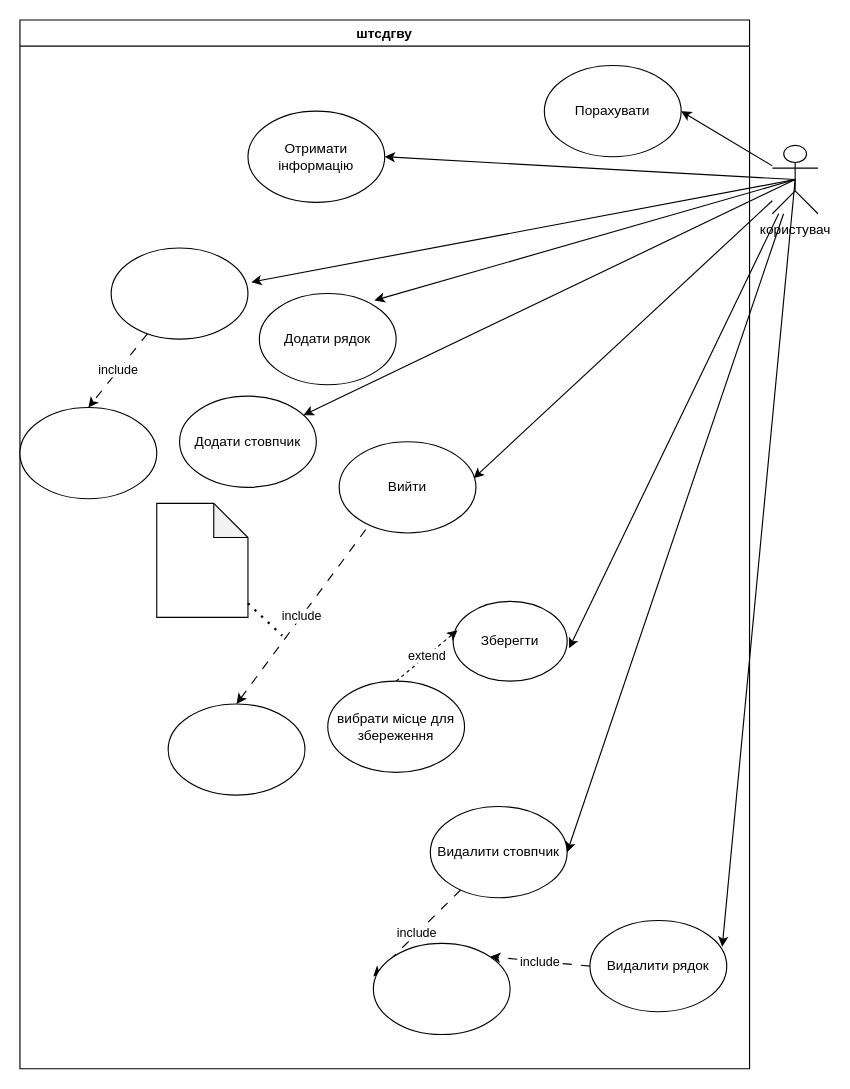
Some shapes in this 850 by 1089 pixel diagram are drawn without their labels. The centre of each missing label's shape, as x and y in pixels:
"Ввести текст" goes at (179,293).
"Вибрати потрібний" goes at (441,988).
"вибрати рядок і стовпчик" goes at (88,452).
"вивести попередження" goes at (236,749).
"якщо файл не був збережений" goes at (202,559).
